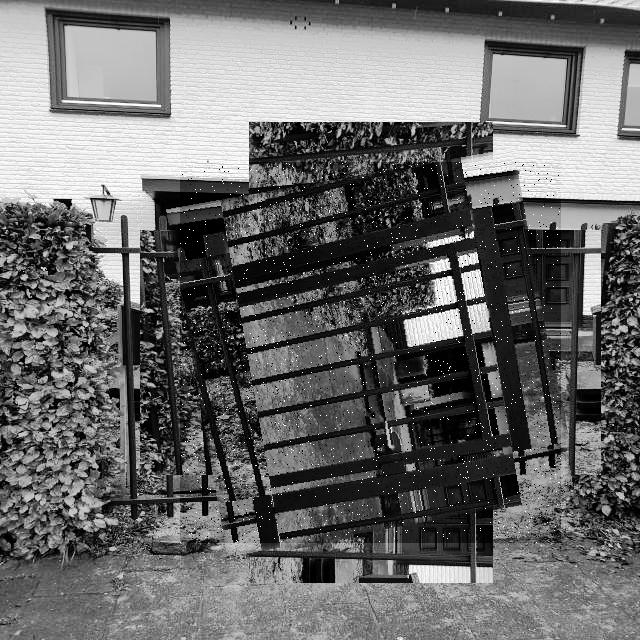fences: (180, 162, 561, 543)
